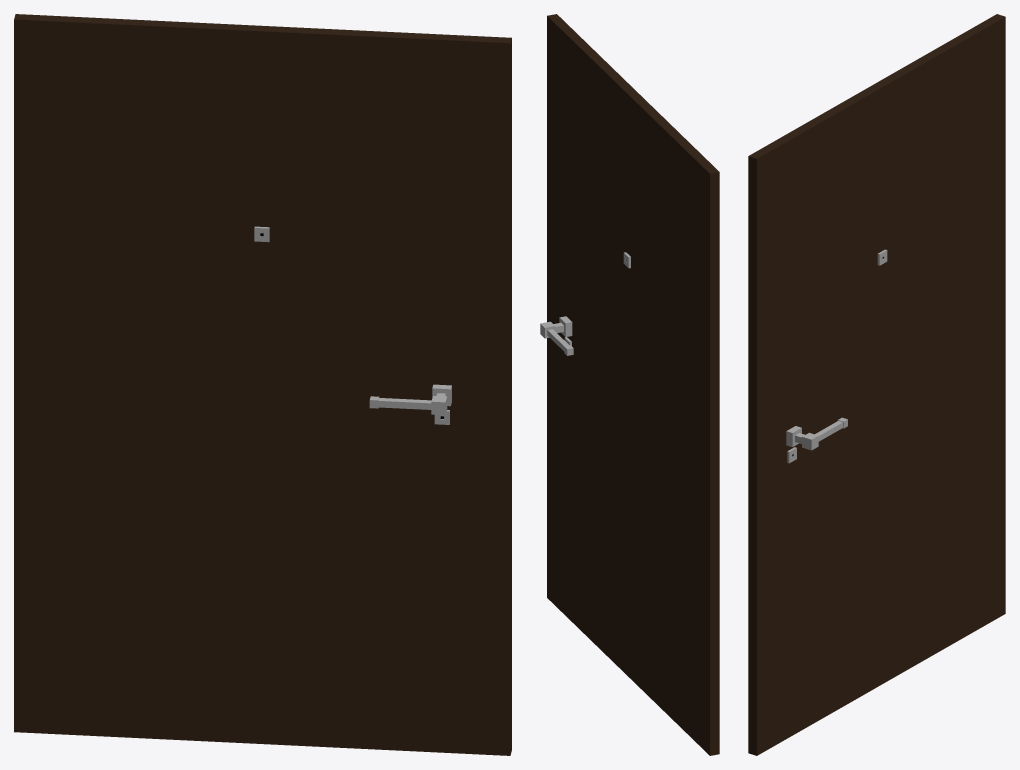
File: door.fbx
3 renders of one model, left to right at view 1: azimuth 30°, elevation 25°; view 2: azimuth 150°, elevation 25°; view 3: azimuth 270°, elevation 25°, orthographic. The views are drawn at different scales.
Parts seen in each view (by area): view 1: Cube.002; view 2: Cube.002; view 3: Cube.002.
Part boxes in pixels (box(x1,y1,x2,y2)): Cube.002: box(14, 14, 511, 755); Cube.002: box(540, 14, 719, 755); Cube.002: box(748, 14, 1005, 755).
Size of the model in its own units: 103 by 197 by 77.05.
